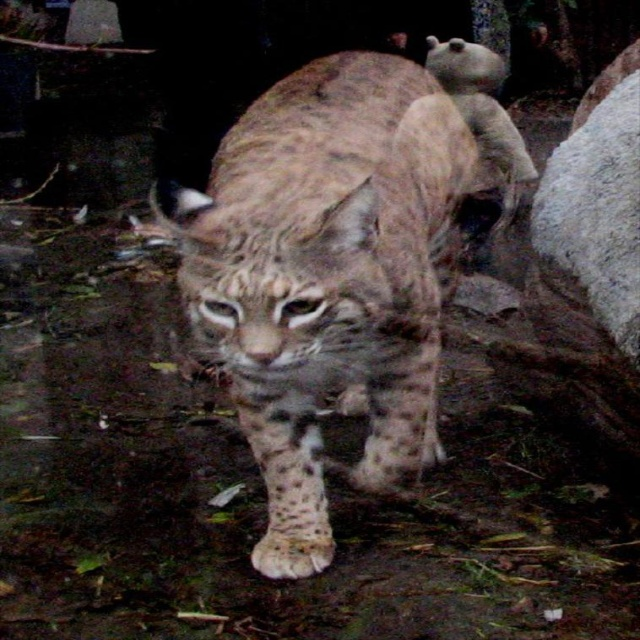Lynx: (143, 49, 485, 582)
